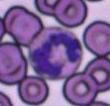N: (30, 26, 82, 80)
